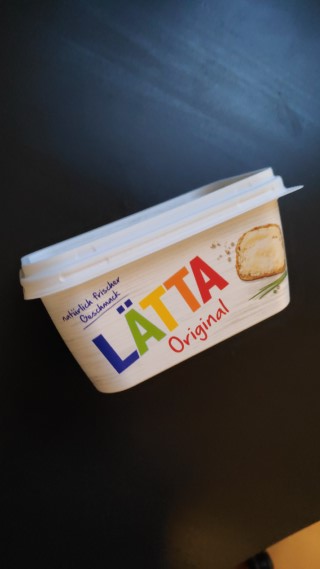laetta: (19, 165, 313, 394)
